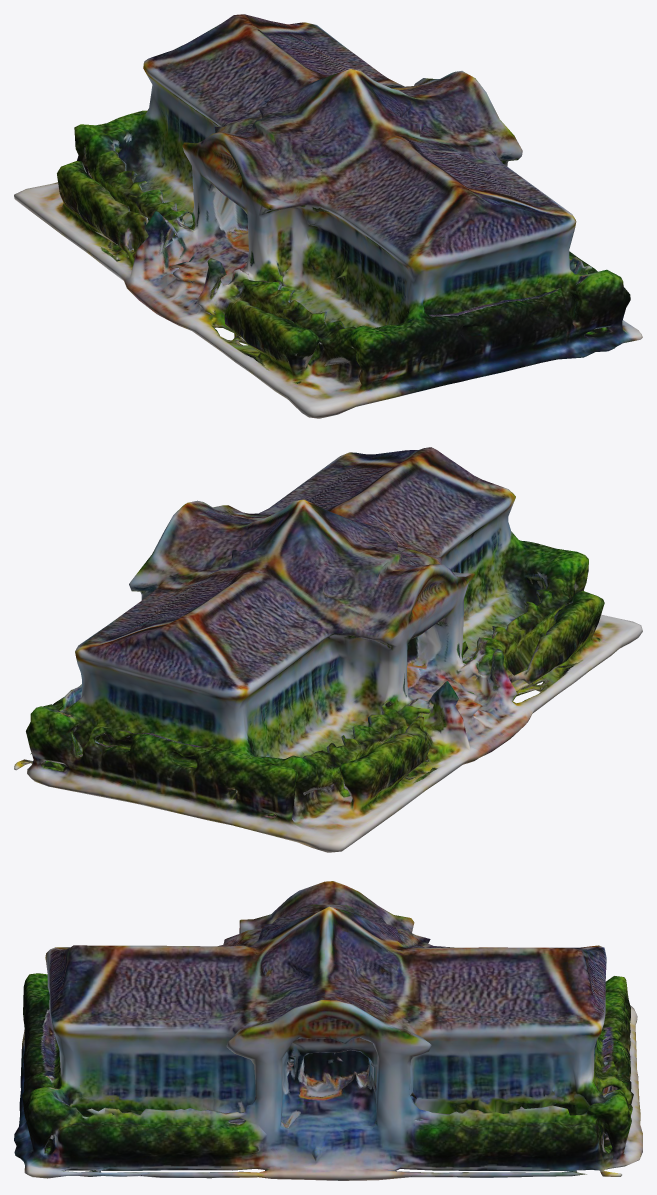
File: c93b3454bb5d_Da_Nang_Museum__Vie.obj
The picture shows the model from 3 angles, top to bottom: view 1: azimuth 30°, elevation 25°; view 2: azimuth 150°, elevation 25°; view 3: azimuth 270°, elevation 25°; orthographic projection.
Visible parts, largest first — view 1: mesh; view 2: mesh; view 3: mesh.
Boxes of the visible parts, x1,y1,x2,y2 form: mesh: [14, 14, 642, 418]; mesh: [14, 447, 642, 852]; mesh: [14, 881, 642, 1180].
Bounding box in the file's own units: 0.6488 × 0.3581 × 0.9995.
Materials: 1 (1 with a texture image).
